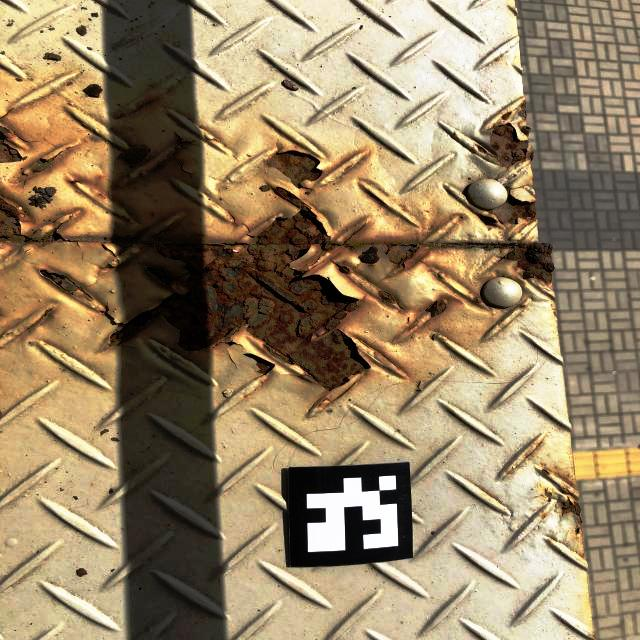Corrosion: (35, 185, 449, 407), (0, 190, 112, 247), (149, 124, 226, 177), (475, 99, 534, 168), (262, 146, 322, 191), (497, 239, 555, 285), (14, 144, 74, 188), (0, 106, 41, 164), (480, 186, 537, 225), (559, 486, 585, 559), (503, 439, 542, 477), (68, 174, 112, 200), (541, 467, 576, 489), (245, 354, 276, 375), (543, 487, 553, 496), (452, 133, 460, 140), (519, 304, 527, 308), (543, 514, 546, 518)
